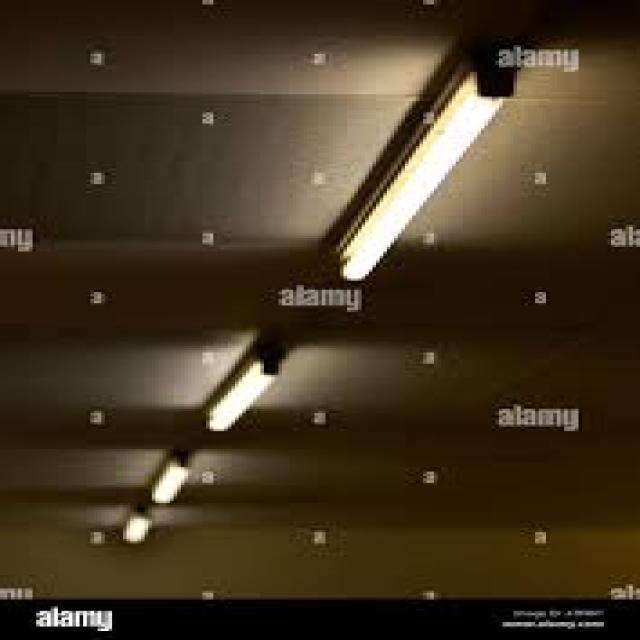tubelight_on: (325, 58, 532, 287), (196, 339, 293, 442), (144, 456, 202, 510), (120, 512, 161, 544)
